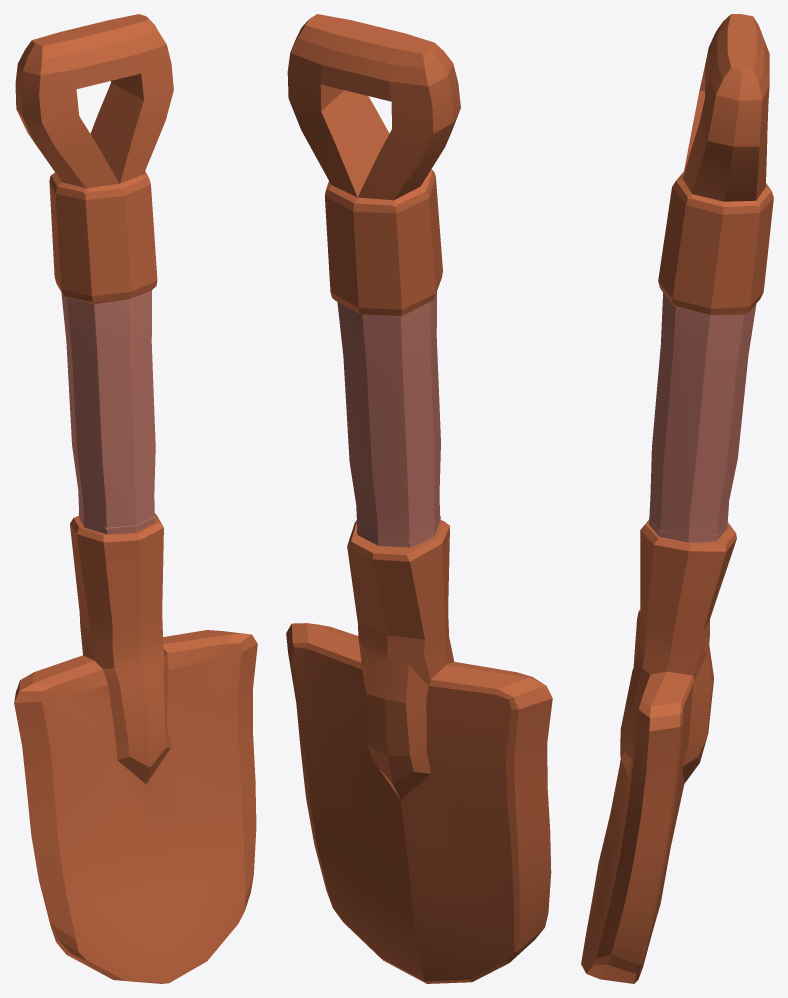
The model's file is shovel.gltf.
3 views of the same model, side by side, from view 1: azimuth 30°, elevation 25°; view 2: azimuth 150°, elevation 25°; view 3: azimuth 270°, elevation 25° (orthographic). The views are drawn at different scales.
Parts seen in each view (by area): view 1: Shovel 1; view 2: Shovel 1; view 3: Shovel 1.
Boxes of the visible parts, <box> form: Shovel 1: <box>14,14,257,983</box>; Shovel 1: <box>286,14,552,983</box>; Shovel 1: <box>581,14,773,983</box>.
Size of the model in its own units: 1.88 by 6.69 by 1.25.
